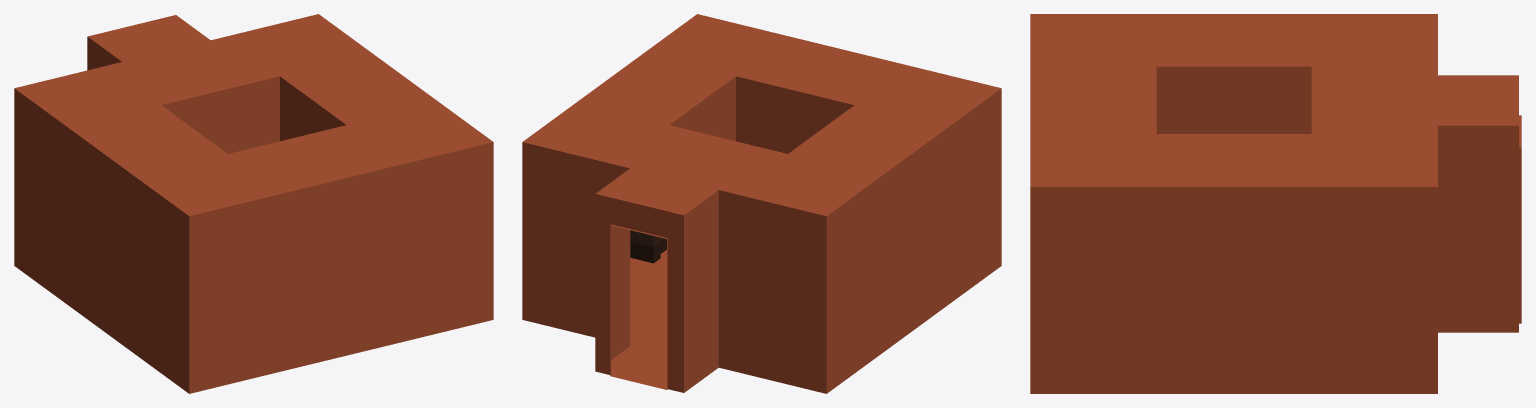
The model's file is room_5_1.glb.
3 views of the same model, side by side, from view 1: azimuth 30°, elevation 25°; view 2: azimuth 150°, elevation 25°; view 3: azimuth 270°, elevation 25° (orthographic). The views are drawn at different scales.
Parts seen in each view (by area): view 1: komnata_5_1; view 2: komnata_5_1, Plane.001; view 3: komnata_5_1.
Part boxes in pixels (bbox=[...]): komnata_5_1: bbox=[14, 14, 493, 393]; komnata_5_1: bbox=[522, 14, 1001, 393]; Plane.001: bbox=[630, 230, 666, 263]; komnata_5_1: bbox=[1030, 14, 1521, 393].
Size of what is drawn, in the model's own units: 4.47 by 2.49 by 5.36.
